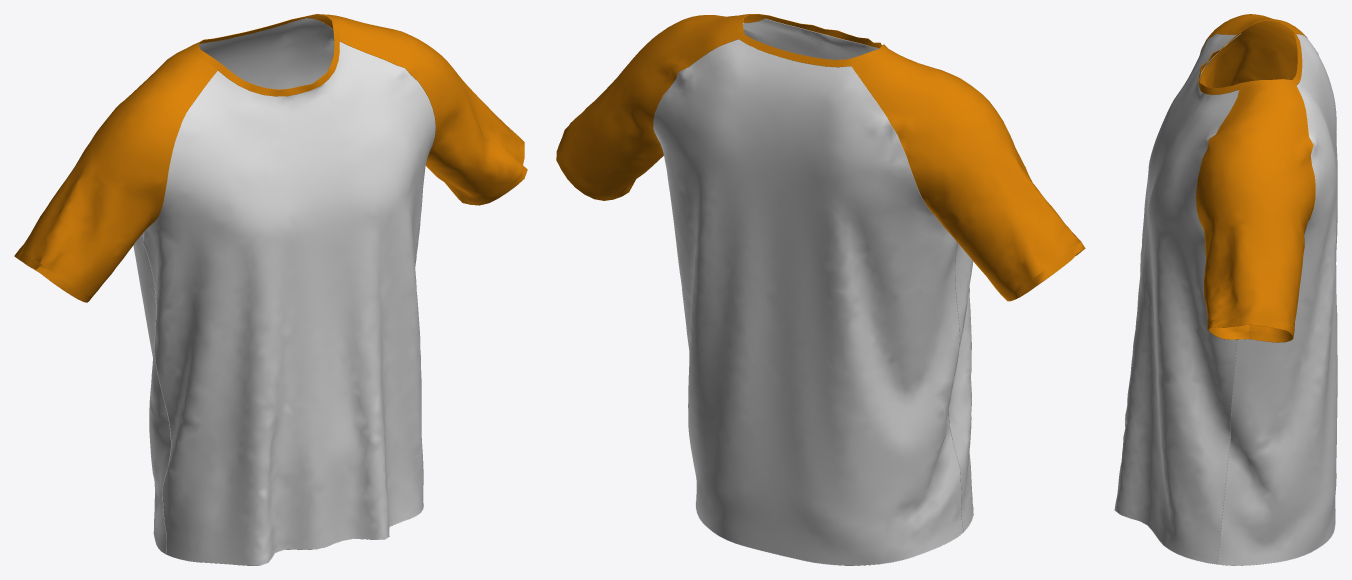
Rendered from t-shirt-orange-sleeves.glb.
3 views of the same model, side by side, from view 1: azimuth 30°, elevation 25°; view 2: azimuth 150°, elevation 25°; view 3: azimuth 270°, elevation 25° (orthographic). The views are drawn at different scales.
Parts seen in each view (by area): view 1: base, sleeves; view 2: base, sleeves; view 3: base, sleeves.
Boxes of the visible parts, x1,y1,x2,y2 form: base: (133, 18, 435, 565); sleeves: (14, 14, 527, 302); base: (653, 18, 973, 565); sleeves: (556, 14, 1085, 301); base: (1114, 33, 1337, 565); sleeves: (1196, 14, 1315, 342).
Bounding box in the file's own units: 0.4975 × 0.4606 × 0.2011.
